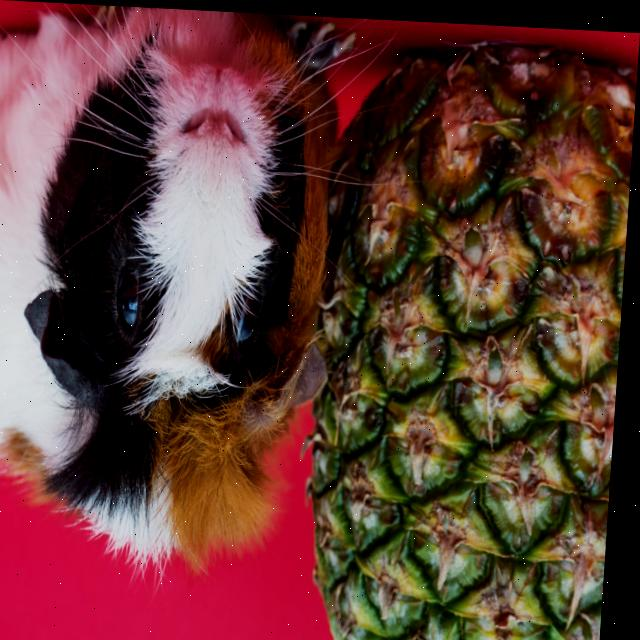guinea pig: (0, 0, 354, 567)
